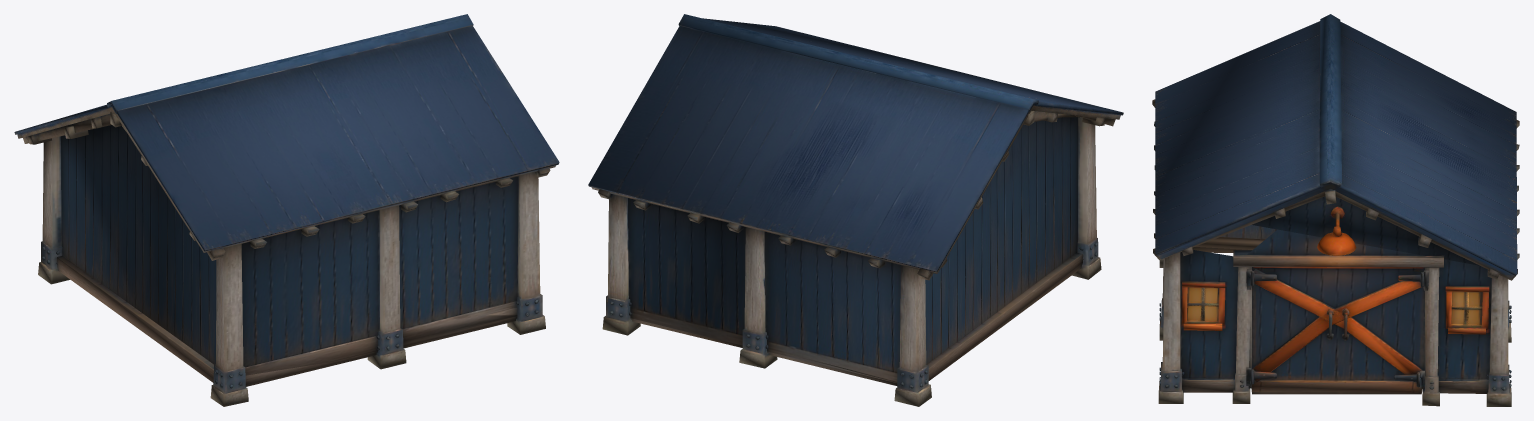
The model's file is 08-boathouse.glb.
3 renders of one model, left to right at view 1: azimuth 30°, elevation 25°; view 2: azimuth 150°, elevation 25°; view 3: azimuth 270°, elevation 25°, orthographic. The views are drawn at different scales.
Parts seen in each view (by area): view 1: tripo_node_1bc632d1-177c-4240-8b80-b285b51e342e; view 2: tripo_node_1bc632d1-177c-4240-8b80-b285b51e342e; view 3: tripo_node_1bc632d1-177c-4240-8b80-b285b51e342e.
Part boxes in pixels (<box>): tripo_node_1bc632d1-177c-4240-8b80-b285b51e342e: <box>14,14,559,406</box>; tripo_node_1bc632d1-177c-4240-8b80-b285b51e342e: <box>588,14,1123,406</box>; tripo_node_1bc632d1-177c-4240-8b80-b285b51e342e: <box>1152,14,1519,406</box>.
Bounding box in the file's own units: 3.96 × 2.5 × 3.54.
1 material, 1 textured.
